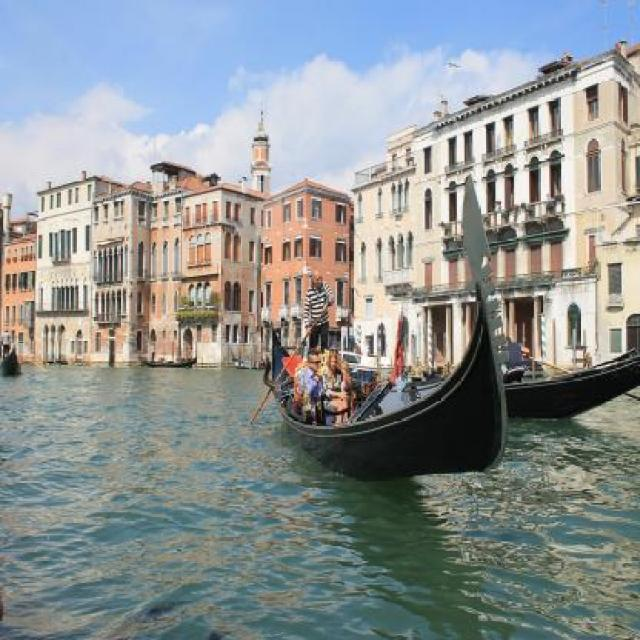ship: (268, 172, 509, 477), (397, 348, 637, 417), (134, 348, 198, 368), (0, 344, 20, 378)
